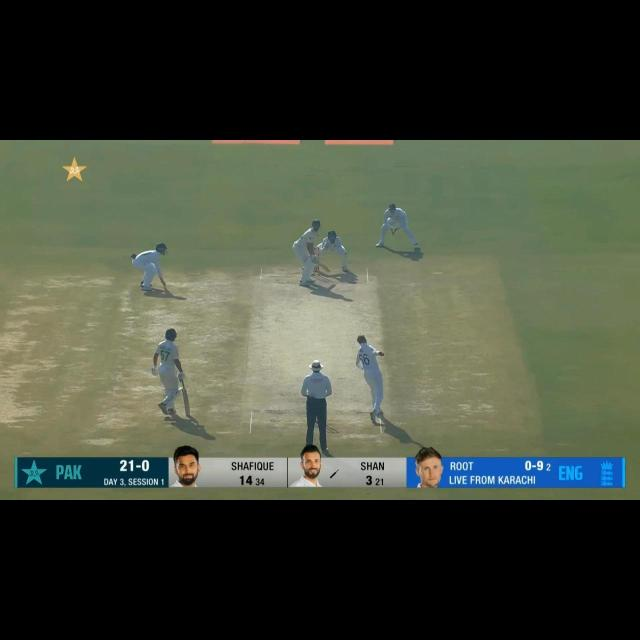bat: (180, 388, 193, 416), (315, 261, 331, 273)
toe: (185, 408, 190, 416), (325, 268, 330, 272)
